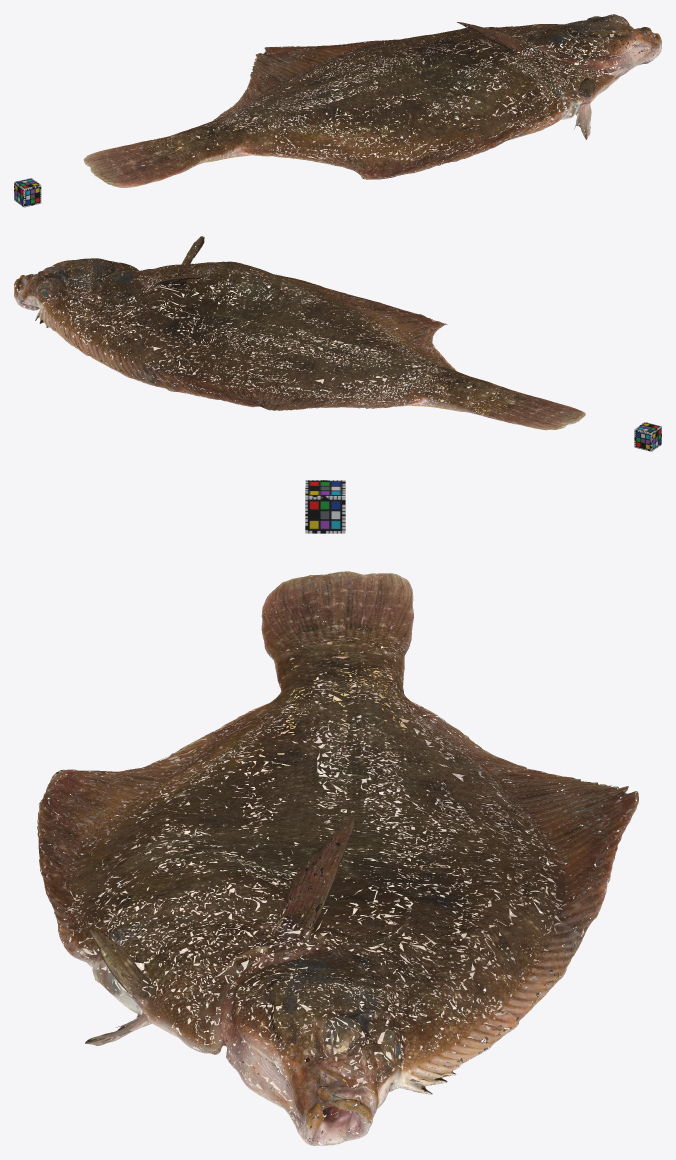
Rendered from scan_flounder_ystripe.glb.
3 views of the same model, one above another, from view 1: azimuth 30°, elevation 25°; view 2: azimuth 150°, elevation 25°; view 3: azimuth 270°, elevation 25° (orthographic). The views are drawn at different scales.
Parts seen in each view (by area): view 1: Object_6, Object_14, Object_4; view 2: Object_6, Object_14, Object_4; view 3: Object_6, Object_14, Object_4.
Boxes of the visible parts, bbox=[...] form: Object_6: bbox=[85, 14, 661, 182]; Object_14: bbox=[83, 14, 661, 187]; Object_4: bbox=[14, 178, 41, 207]; Object_6: bbox=[14, 239, 575, 429]; Object_14: bbox=[14, 236, 585, 430]; Object_4: bbox=[634, 422, 661, 451]; Object_6: bbox=[37, 577, 638, 1145]; Object_14: bbox=[37, 571, 638, 1145]; Object_4: bbox=[305, 480, 345, 533].
Bounding box in the file's own units: 18.22 × 3.1 × 7.42.
Materials: 3 (3 with a texture image).
